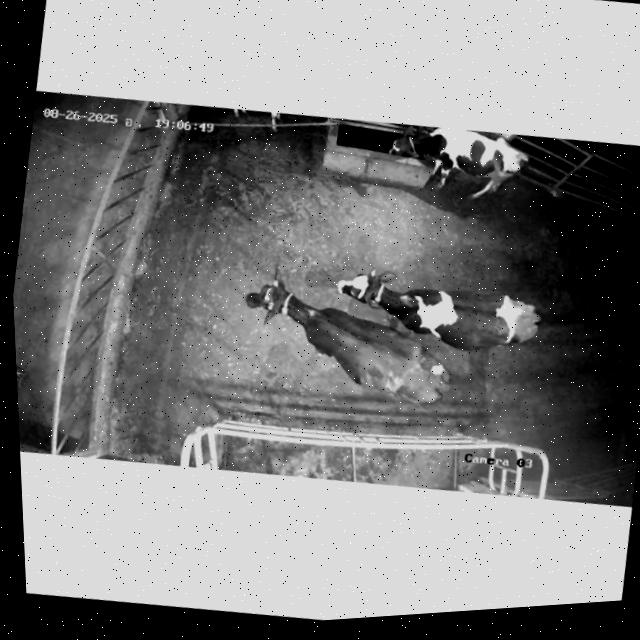stand: (208, 244, 473, 434), (320, 238, 569, 372)
